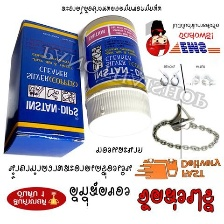book: (0, 15, 86, 161)
cleaning_solution: (78, 13, 152, 138)
